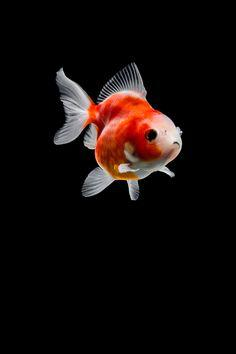goldfish: (59, 83, 189, 194)
